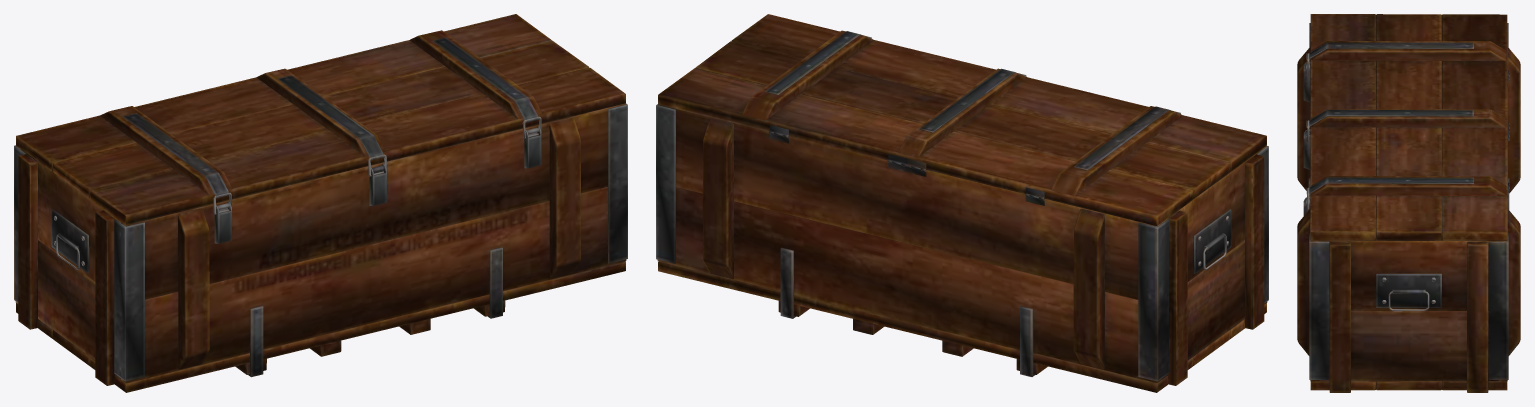
The model's file is wooden_military_crate.glb.
3 views of the same model, side by side, from view 1: azimuth 30°, elevation 25°; view 2: azimuth 150°, elevation 25°; view 3: azimuth 270°, elevation 25° (orthographic). The views are drawn at different scales.
Visible parts, largest first — view 1: wooden_military_crate, wooden_military_crate_lid; view 2: wooden_military_crate, wooden_military_crate_lid; view 3: wooden_military_crate_lid, wooden_military_crate.
Boxes of the visible parts, <box> form: wooden_military_crate: <box>14,103,627,392</box>; wooden_military_crate_lid: <box>16,14,625,224</box>; wooden_military_crate: <box>656,104,1268,392</box>; wooden_military_crate_lid: <box>658,14,1266,225</box>; wooden_military_crate_lid: <box>1306,14,1509,240</box>; wooden_military_crate: <box>1297,23,1520,392</box>.
Bounding box in the file's own units: 1.24 × 0.4639 × 0.5198.
Materials: 1 (1 with a texture image).
